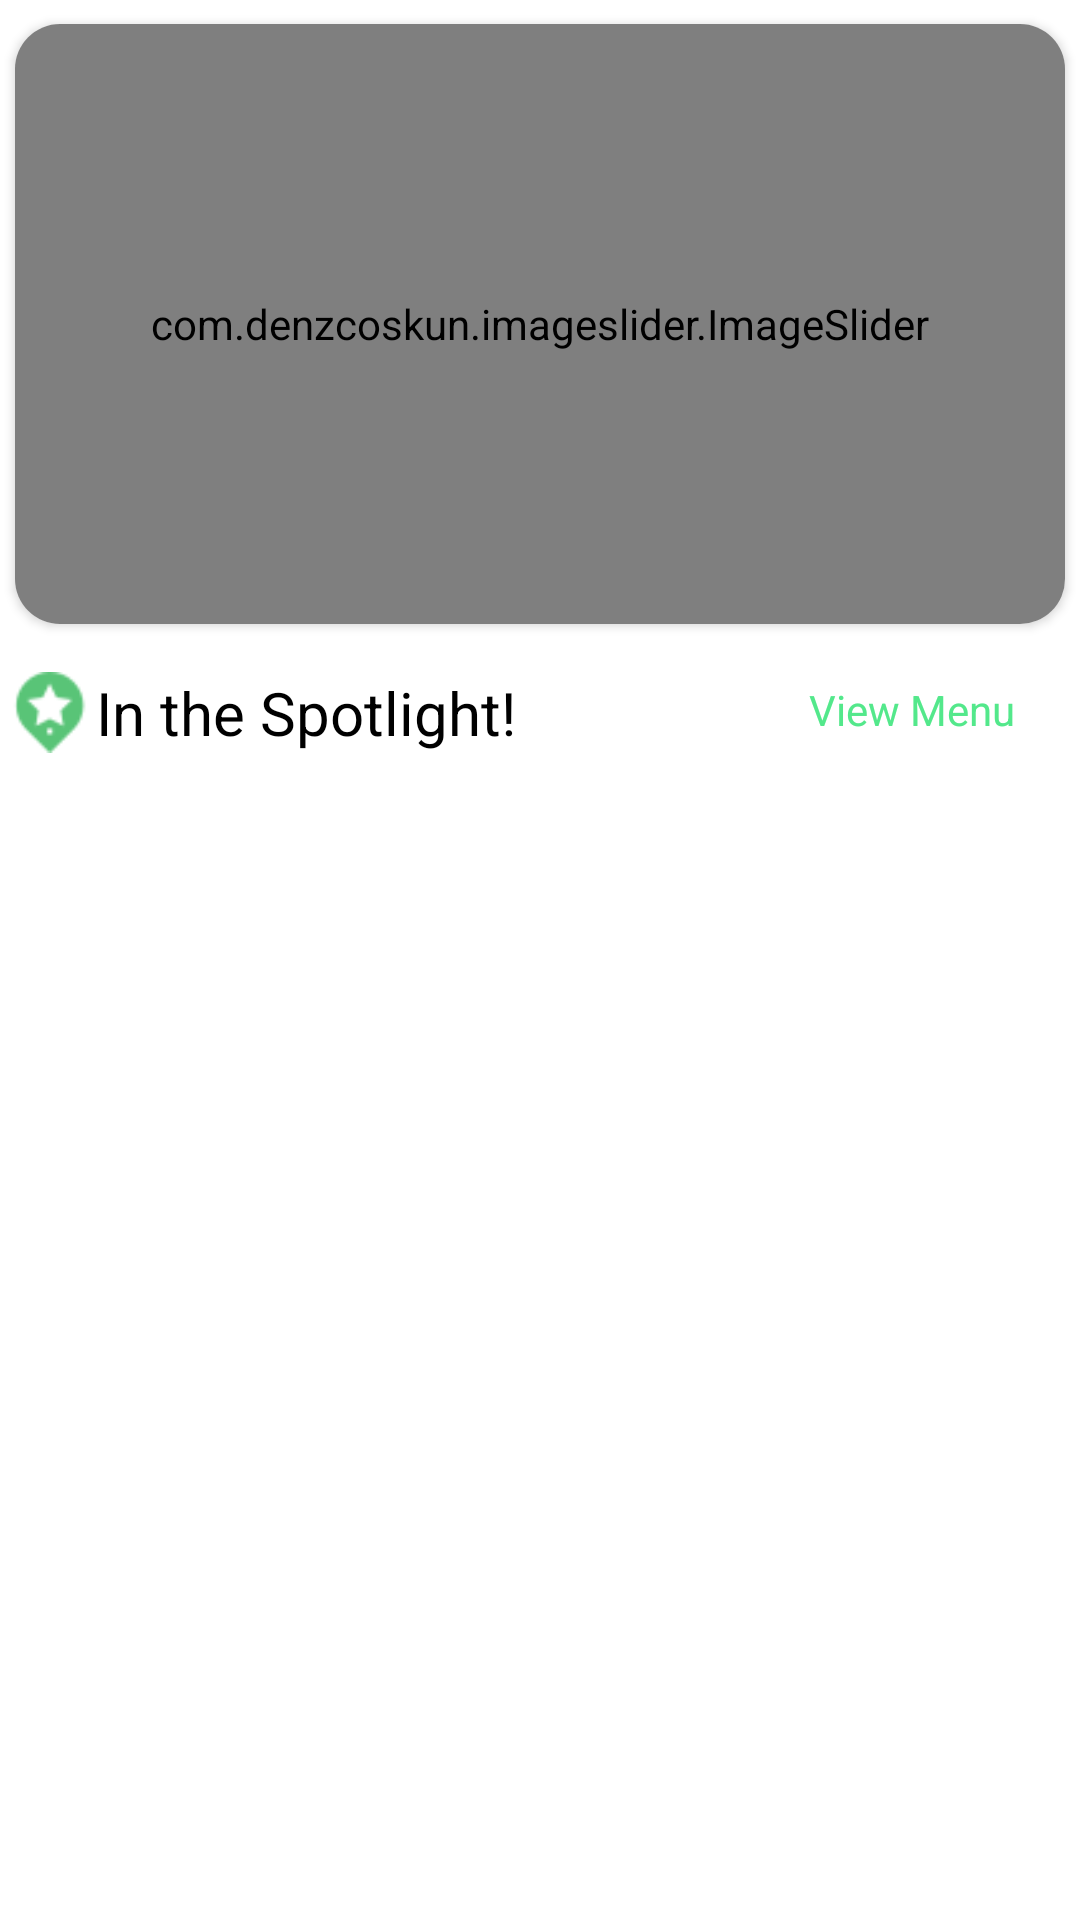

Locate icon controls on the screen. Image size 1080 x 1920, boxes as bbox=(x1, y1, x2, y2).
star: bbox=(16, 672, 85, 753)
